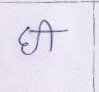i_matra: (41, 20, 57, 51)
